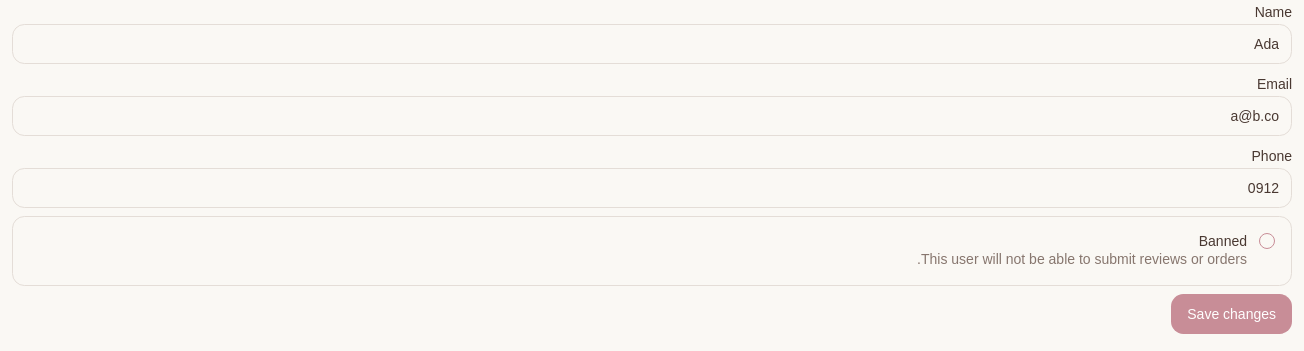
Test: admin UserForm › toggles the banned checkbox
What coordinates should you click on to do the following:
click the checkbox
I would click on:
 (1267, 241)
Its box is left=1259, top=233, right=1275, bottom=249.
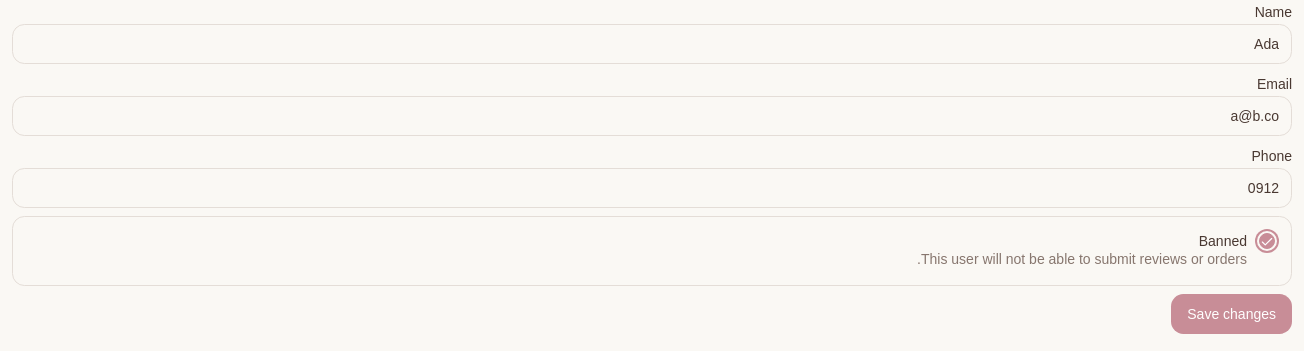
Expected: the checkbox has attribute data-state="checked", left=1259, top=233, right=1275, bottom=249
